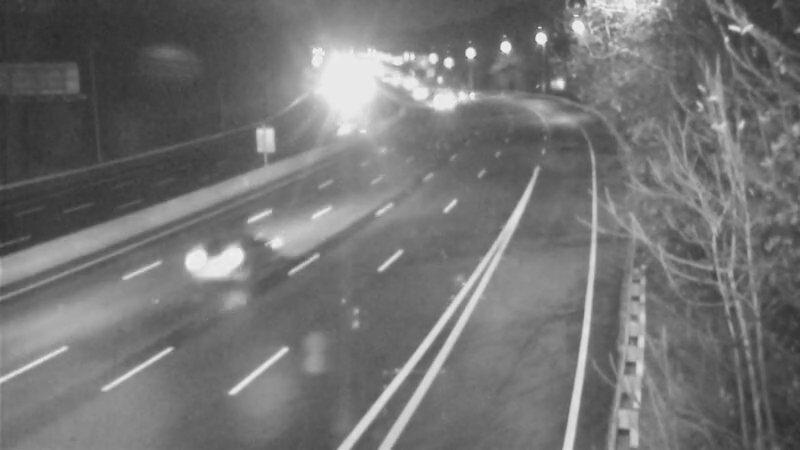vehicle: (178, 221, 258, 301)
